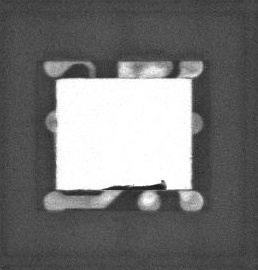DIE_BROKEN: (101, 178, 168, 191)
